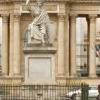Statue: (19, 3, 63, 55)
